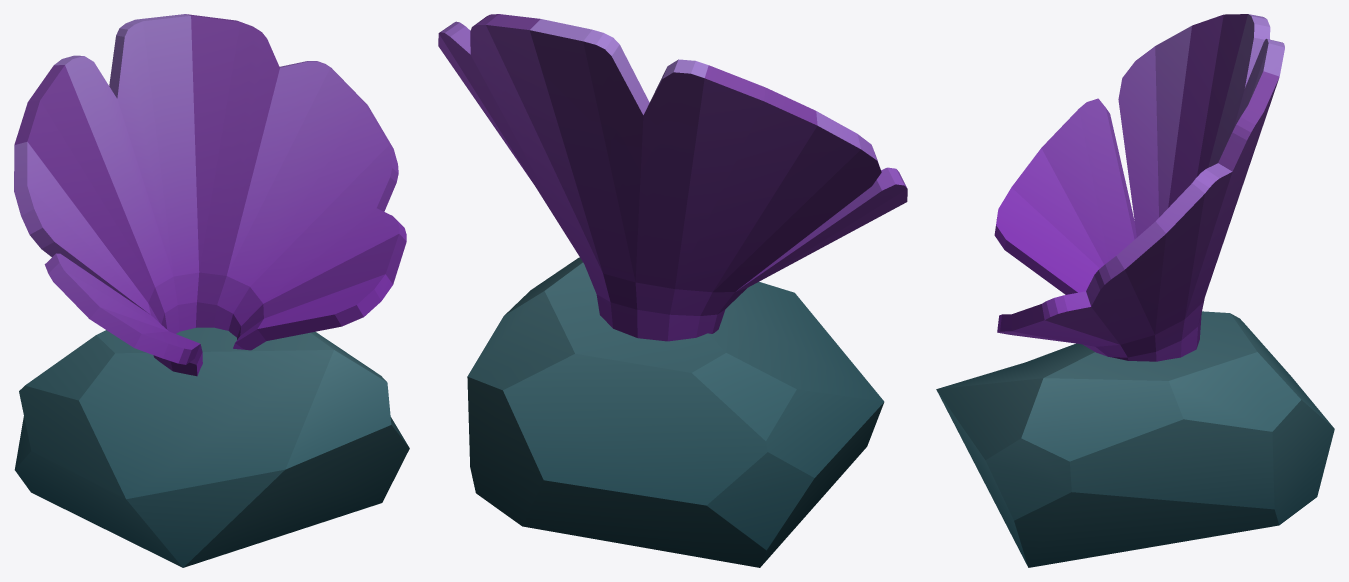
Rendered from coral_peafowl_pink_2.fbx.
The picture shows the model from 3 angles, left to right: view 1: azimuth 30°, elevation 25°; view 2: azimuth 150°, elevation 25°; view 3: azimuth 270°, elevation 25°; orthographic projection. The views are drawn at different scales.
Visible parts, largest first — view 1: coral_peafowl_pink_2; view 2: coral_peafowl_pink_2; view 3: coral_peafowl_pink_2.
Part boxes in pixels (x1,y1,x2,y2): coral_peafowl_pink_2: [14, 14, 409, 567]; coral_peafowl_pink_2: [438, 14, 907, 567]; coral_peafowl_pink_2: [936, 14, 1334, 567].
Size of the model in its own units: 0.6746 by 0.7632 by 0.601.
